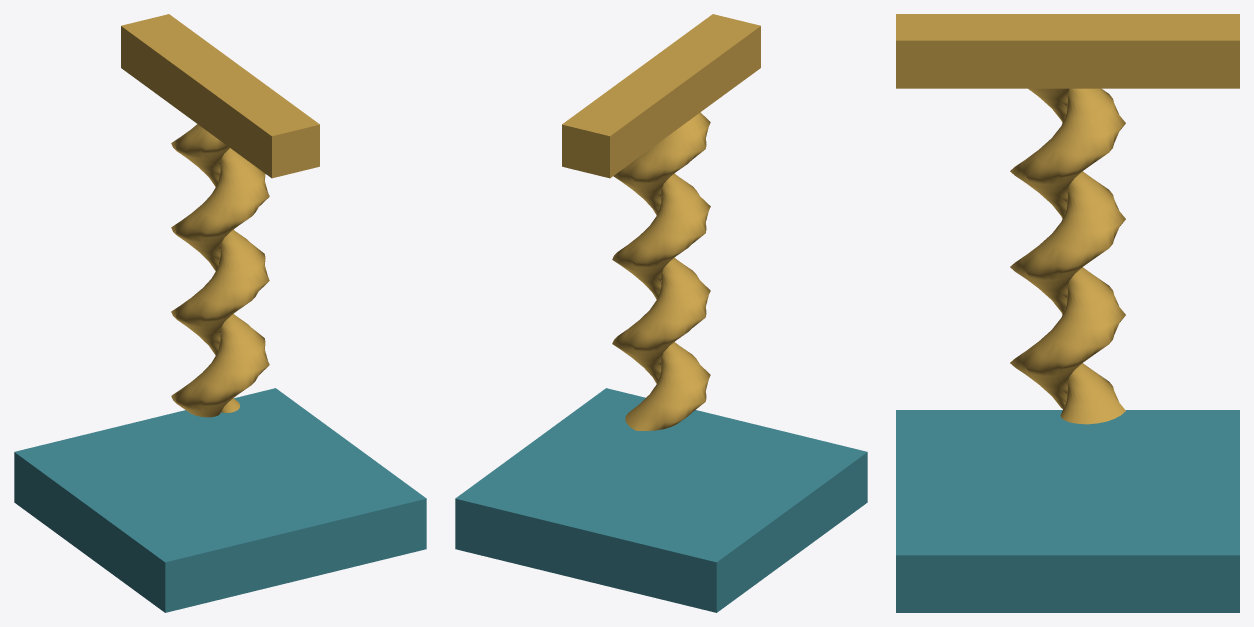
File: asm_screw.glb
3 renders of one model, left to right at view 1: azimuth 30°, elevation 25°; view 2: azimuth 150°, elevation 25°; view 3: azimuth 270°, elevation 25°, orthographic. The views are drawn at different scales.
Visible parts, largest first — view 1: base, bar; view 2: base, bar; view 3: base, bar.
Part boxes in pixels (<box>): base: <box>14,388,426,612</box>; bar: <box>121,14,319,417</box>; base: <box>455,388,867,612</box>; bar: <box>562,14,760,430</box>; base: <box>896,410,1239,612</box>; bar: <box>896,14,1239,424</box>.
Bounding box in the file's own units: 0.065 × 0.107 × 0.065.
